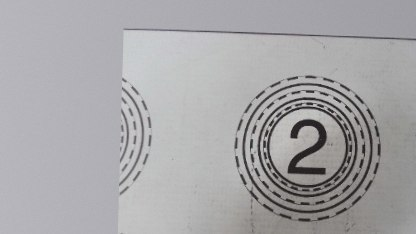2r: (230, 71, 382, 223)
